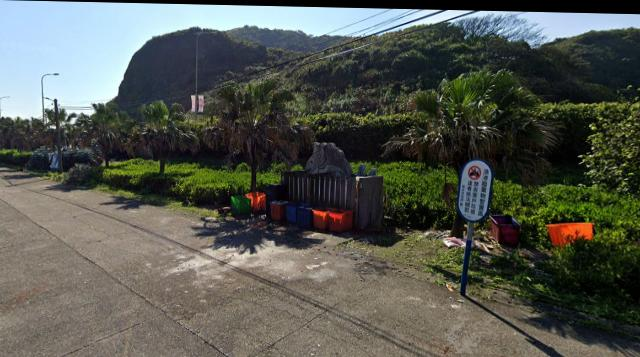pollute: (230, 182, 355, 232), (25, 145, 103, 173)
